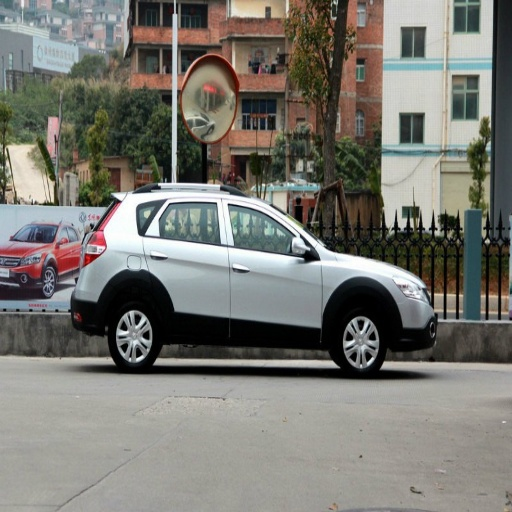back_right_door: (141, 195, 229, 340)
front_right_door: (223, 198, 321, 342)
